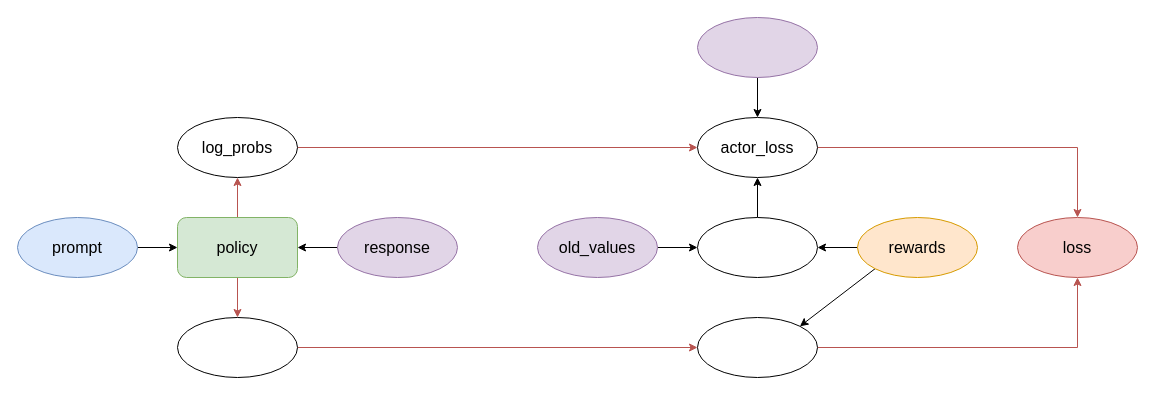
The diagram is 1155 pixels wide and 395 high, and some of its shapes have lost their labels. The centre of each missing label's shape, as x and y in pixels:
"advantages" goes at [757,247].
"critic_loss" goes at [757,347].
"old_log_probs" goes at [757,47].
"values" goes at [237,347].
